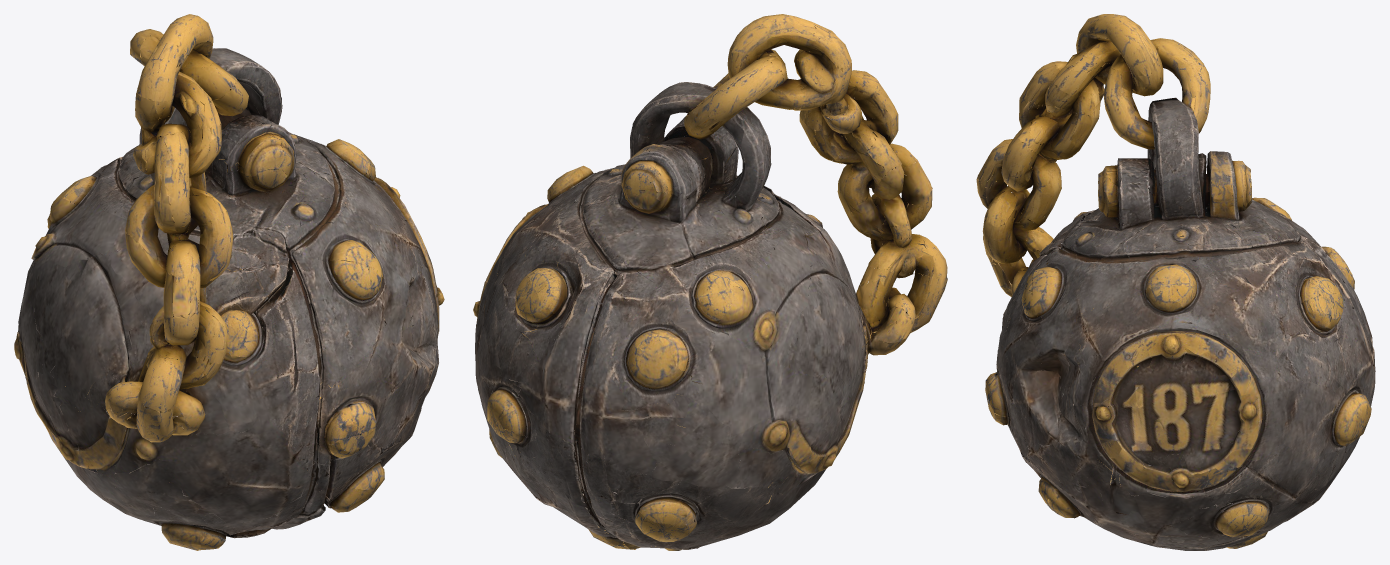
File: ball.glb
3 views of the same model, side by side, from view 1: azimuth 30°, elevation 25°; view 2: azimuth 150°, elevation 25°; view 3: azimuth 270°, elevation 25° (orthographic). The views are drawn at different scales.
Parts seen in each view (by area): view 1: Mesh_0; view 2: Mesh_0; view 3: Mesh_0.
Part boxes in pixels (left/top/right/bottom): Mesh_0: left=14, top=14, right=444, bottom=550; Mesh_0: left=473, top=14, right=947, bottom=550; Mesh_0: left=976, top=14, right=1375, bottom=550.
Size of the model in its own units: 1.07 by 1.5 by 1.12.
Materials: 1 (1 with a texture image).
